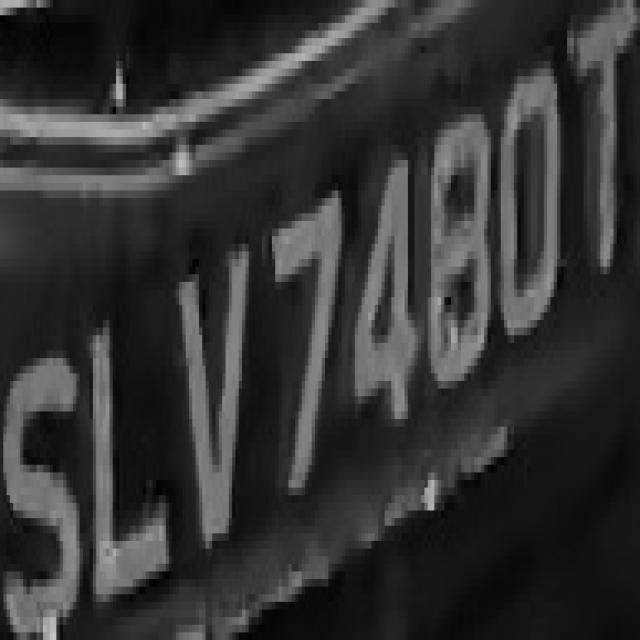0: (488, 53, 570, 366)
4: (338, 145, 424, 465)
7: (255, 206, 348, 541)
8: (415, 99, 494, 396)
L: (76, 282, 176, 632)
T: (557, 0, 640, 259)
V: (165, 221, 258, 571)
